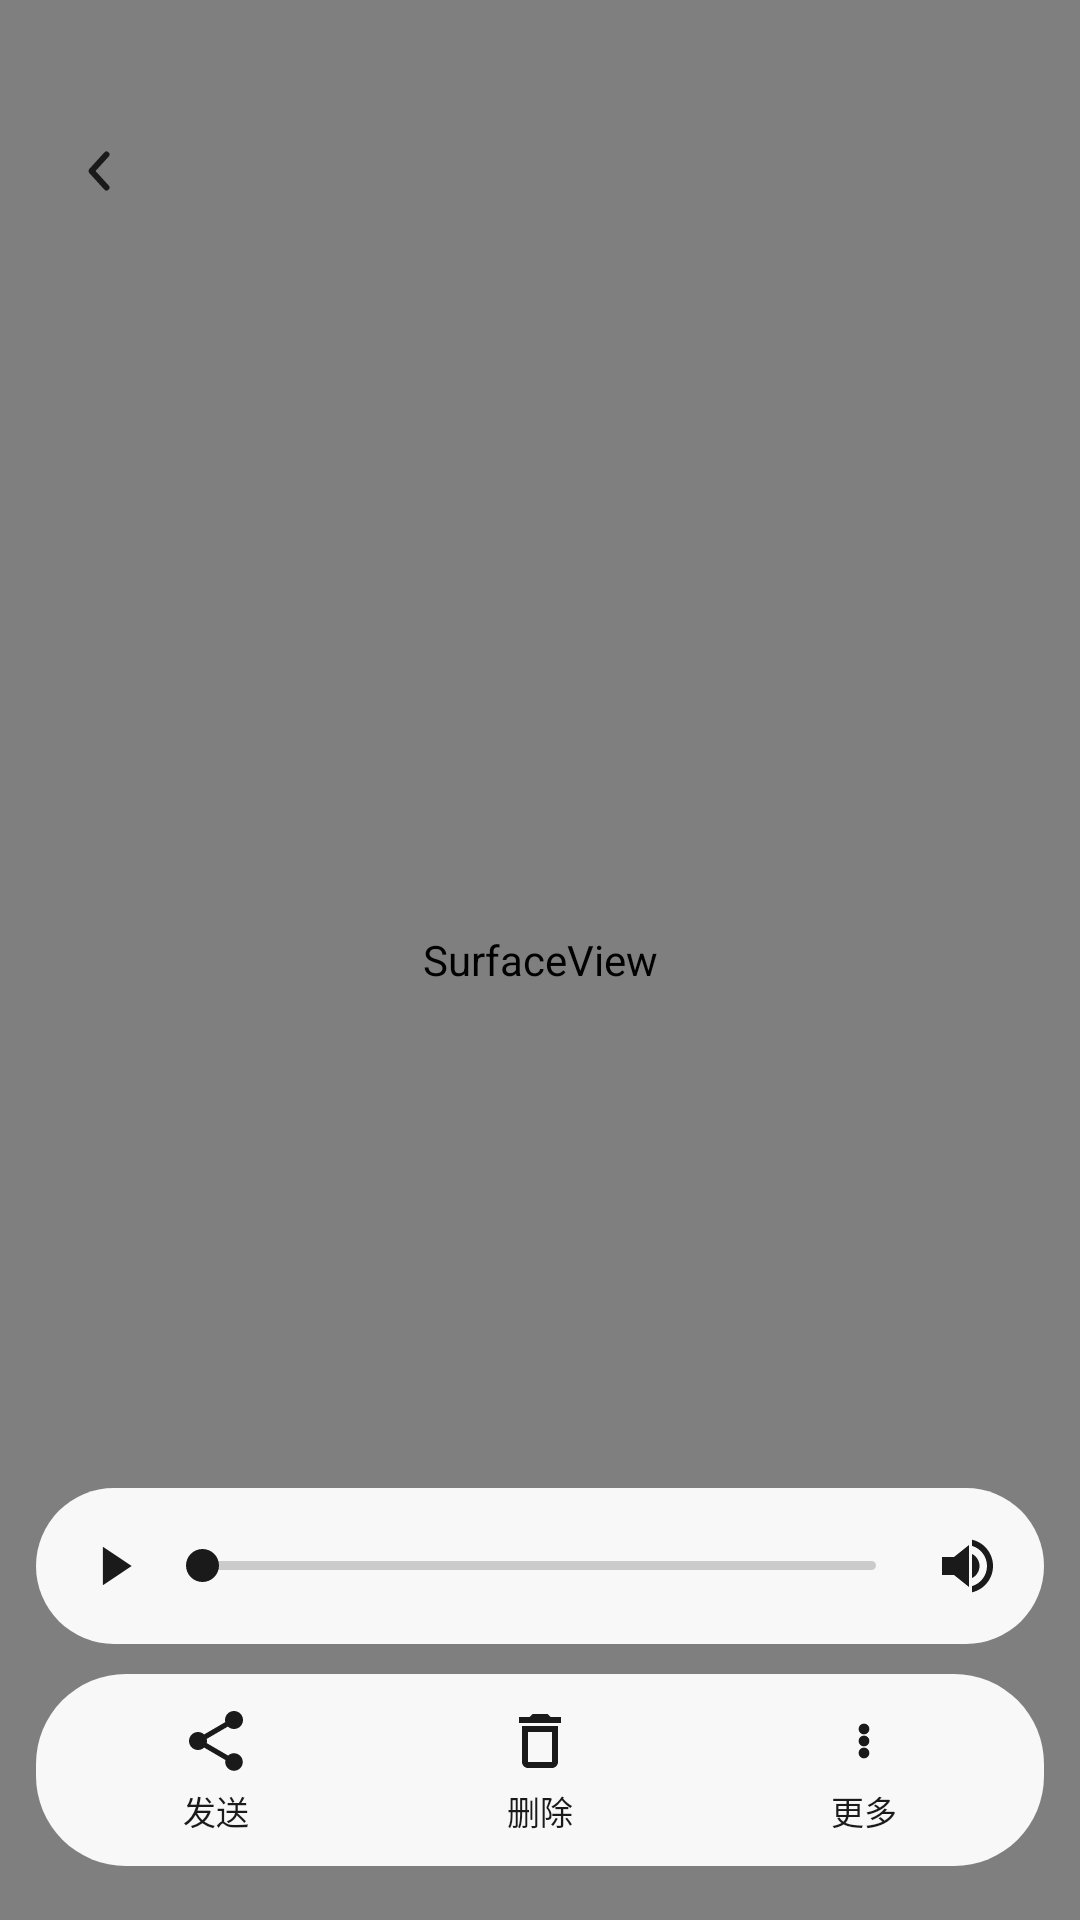

Icon bounding boxes for this 1080px x 1920px phone screenshot, format (x1, y1, x2, y2):
video share: (189, 1711, 243, 1771)
播放: (102, 1547, 132, 1585)
返回: (88, 151, 110, 191)
静音: (942, 1539, 993, 1593)
